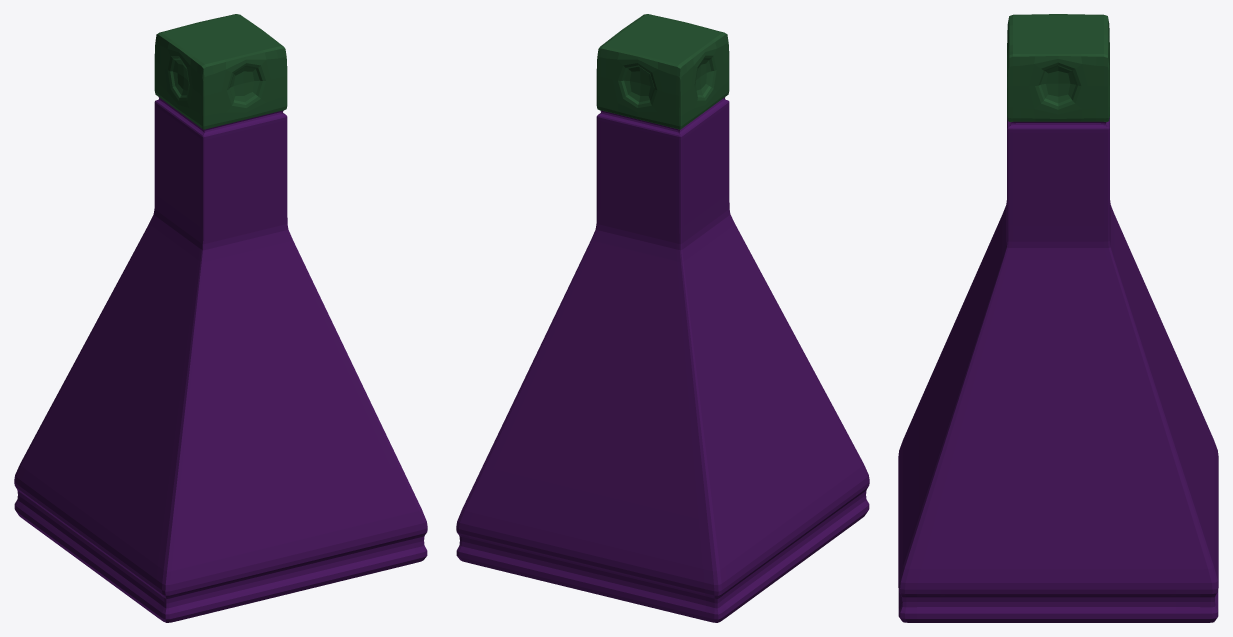
The model's file is Potion.fbx.
3 views of the same model, side by side, from view 1: azimuth 30°, elevation 25°; view 2: azimuth 150°, elevation 25°; view 3: azimuth 270°, elevation 25° (orthographic). The views are drawn at different scales.
Parts seen in each view (by area): view 1: Cube; view 2: Cube; view 3: Cube.
Part boxes in pixels (x1,y1,x2,y2): Cube: (14, 14, 427, 622); Cube: (456, 14, 869, 622); Cube: (898, 14, 1218, 622).
Bounding box in the file's own units: 200 × 361 × 200.
